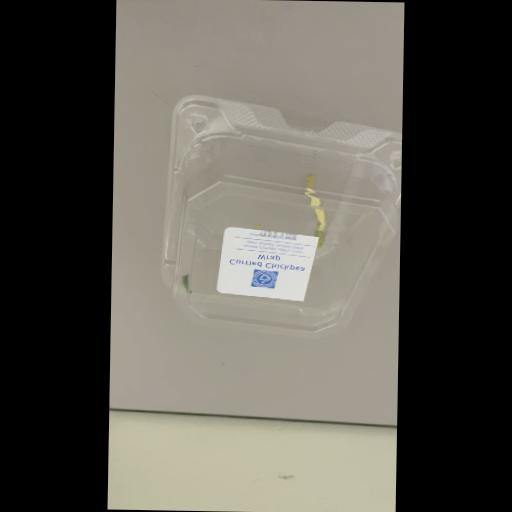small_plastic_container: (158, 94, 402, 342)
